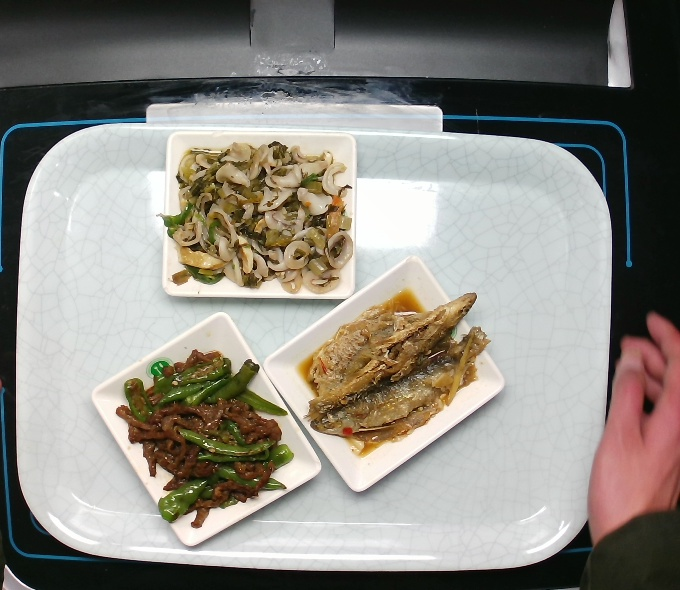wcq-QingJiaoNiuRou: (118, 346, 297, 522)
wcq-XiaoXiYu: (303, 291, 492, 452)
wcq-XueCaiYouYu: (169, 134, 359, 287)
